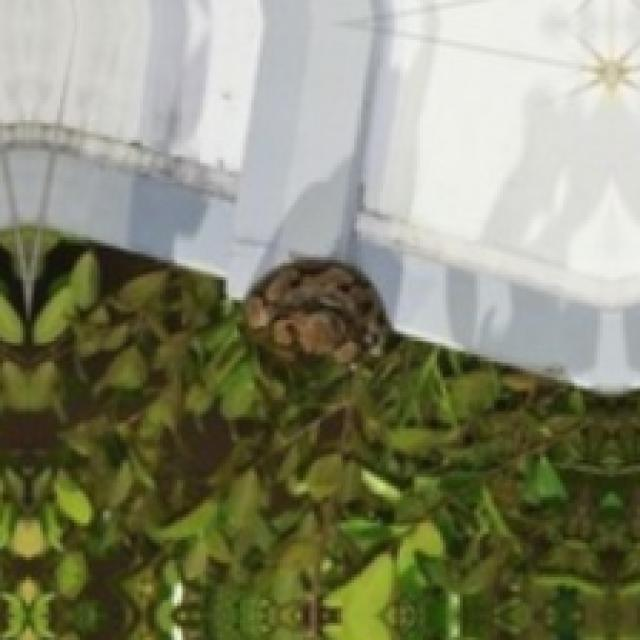reticulated python: (246, 260, 389, 363)
